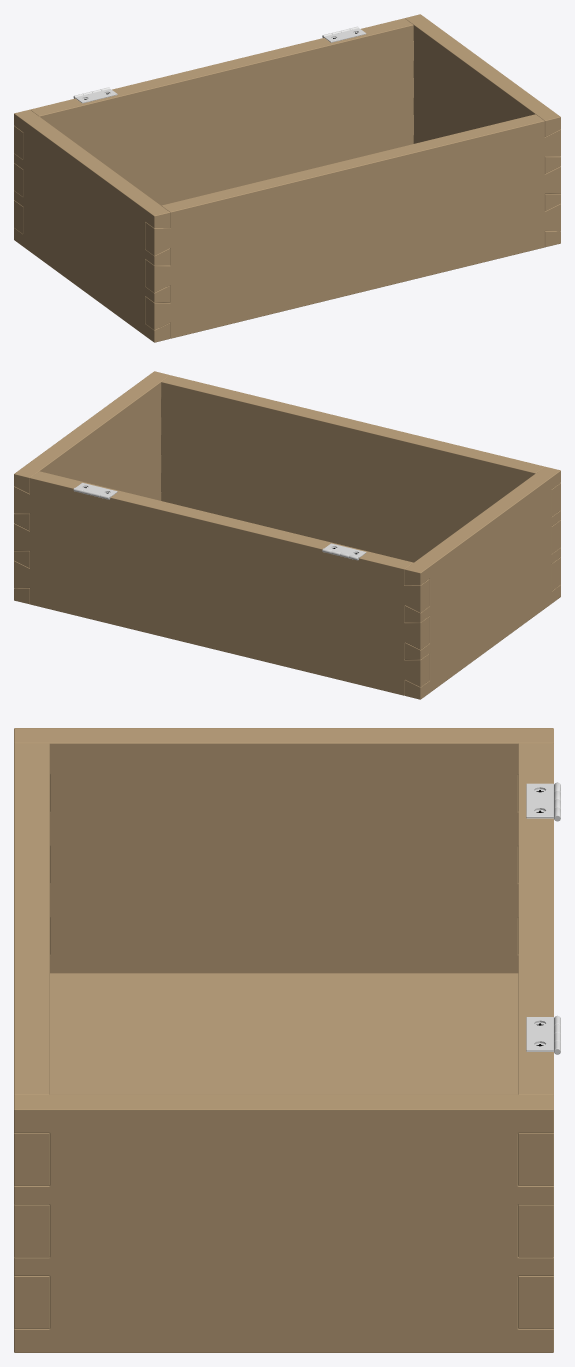
The model's file is WoodenBox.fbx.
The picture shows the model from 3 angles, top to bottom: view 1: azimuth 30°, elevation 25°; view 2: azimuth 150°, elevation 25°; view 3: azimuth 270°, elevation 25°; orthographic projection. The views are drawn at different scales.
Parts seen in each view (by area): view 1: front, sides, Hinge_rotate; view 2: front, sides, Hinge_rotate; view 3: sides, bottom, front, Hinge_rotate.
Boxes of the visible parts, left/top/right/bottom form: front: left=14, top=18, right=560, bottom=338; sides: left=14, top=14, right=560, bottom=342; Hinge_rotate: left=73, top=26, right=366, bottom=103; front: left=14, top=375, right=560, bottom=695; sides: left=14, top=371, right=560, bottom=699; Hinge_rotate: left=73, top=483, right=366, bottom=560; sides: left=14, top=728, right=553, bottom=1352; bottom: left=50, top=973, right=518, bottom=1094; front: left=14, top=743, right=553, bottom=1328; Hinge_rotate: left=526, top=782, right=560, bottom=1054.
Size of the model in its own units: 50.38 by 15.37 by 30.52.
